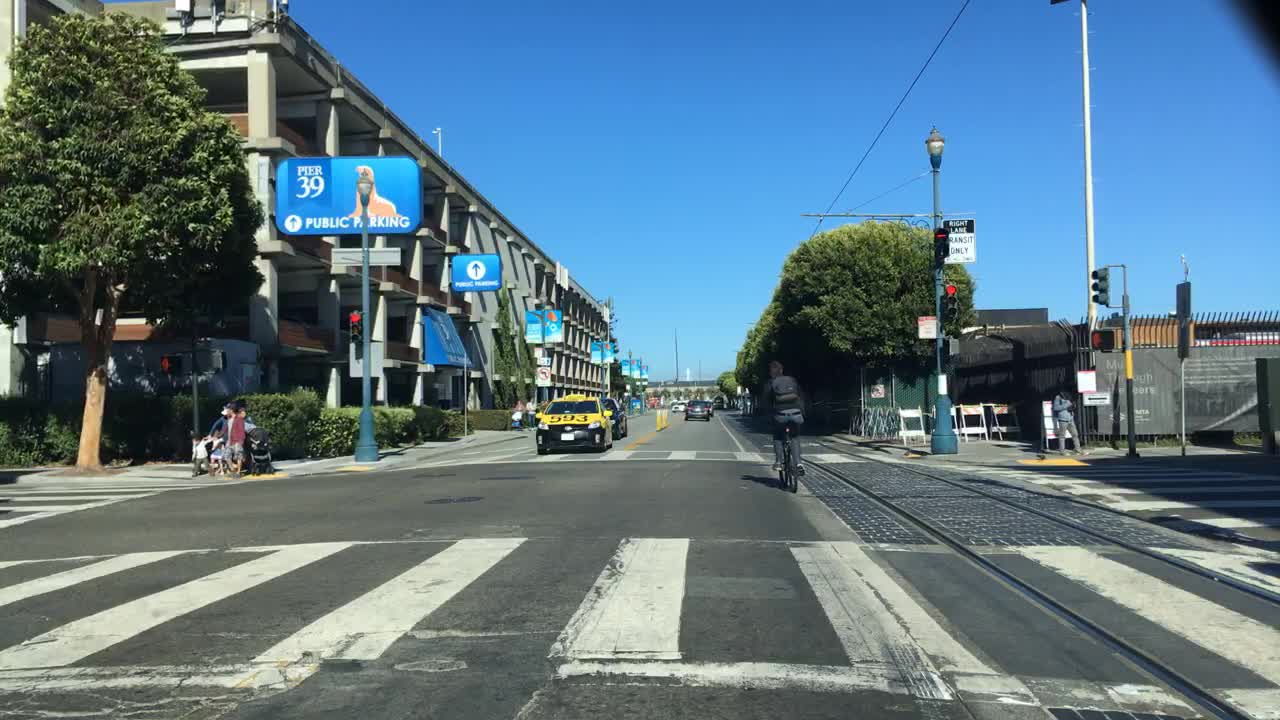bike: (756, 405, 811, 495)
car: (534, 392, 613, 454), (599, 397, 629, 441), (685, 397, 713, 419), (668, 398, 687, 416), (709, 392, 725, 410)
person: (1050, 388, 1085, 455), (207, 406, 231, 475), (188, 429, 216, 478), (236, 404, 258, 436), (525, 394, 537, 430), (512, 398, 525, 426)
rider: (760, 357, 806, 477)
traffic light: (932, 226, 950, 269), (1090, 267, 1109, 305), (944, 279, 960, 322), (347, 310, 366, 345), (1090, 327, 1114, 352), (200, 350, 226, 372), (159, 354, 182, 372)
traffic sign: (946, 219, 976, 260), (1082, 391, 1117, 405), (917, 317, 937, 338)
